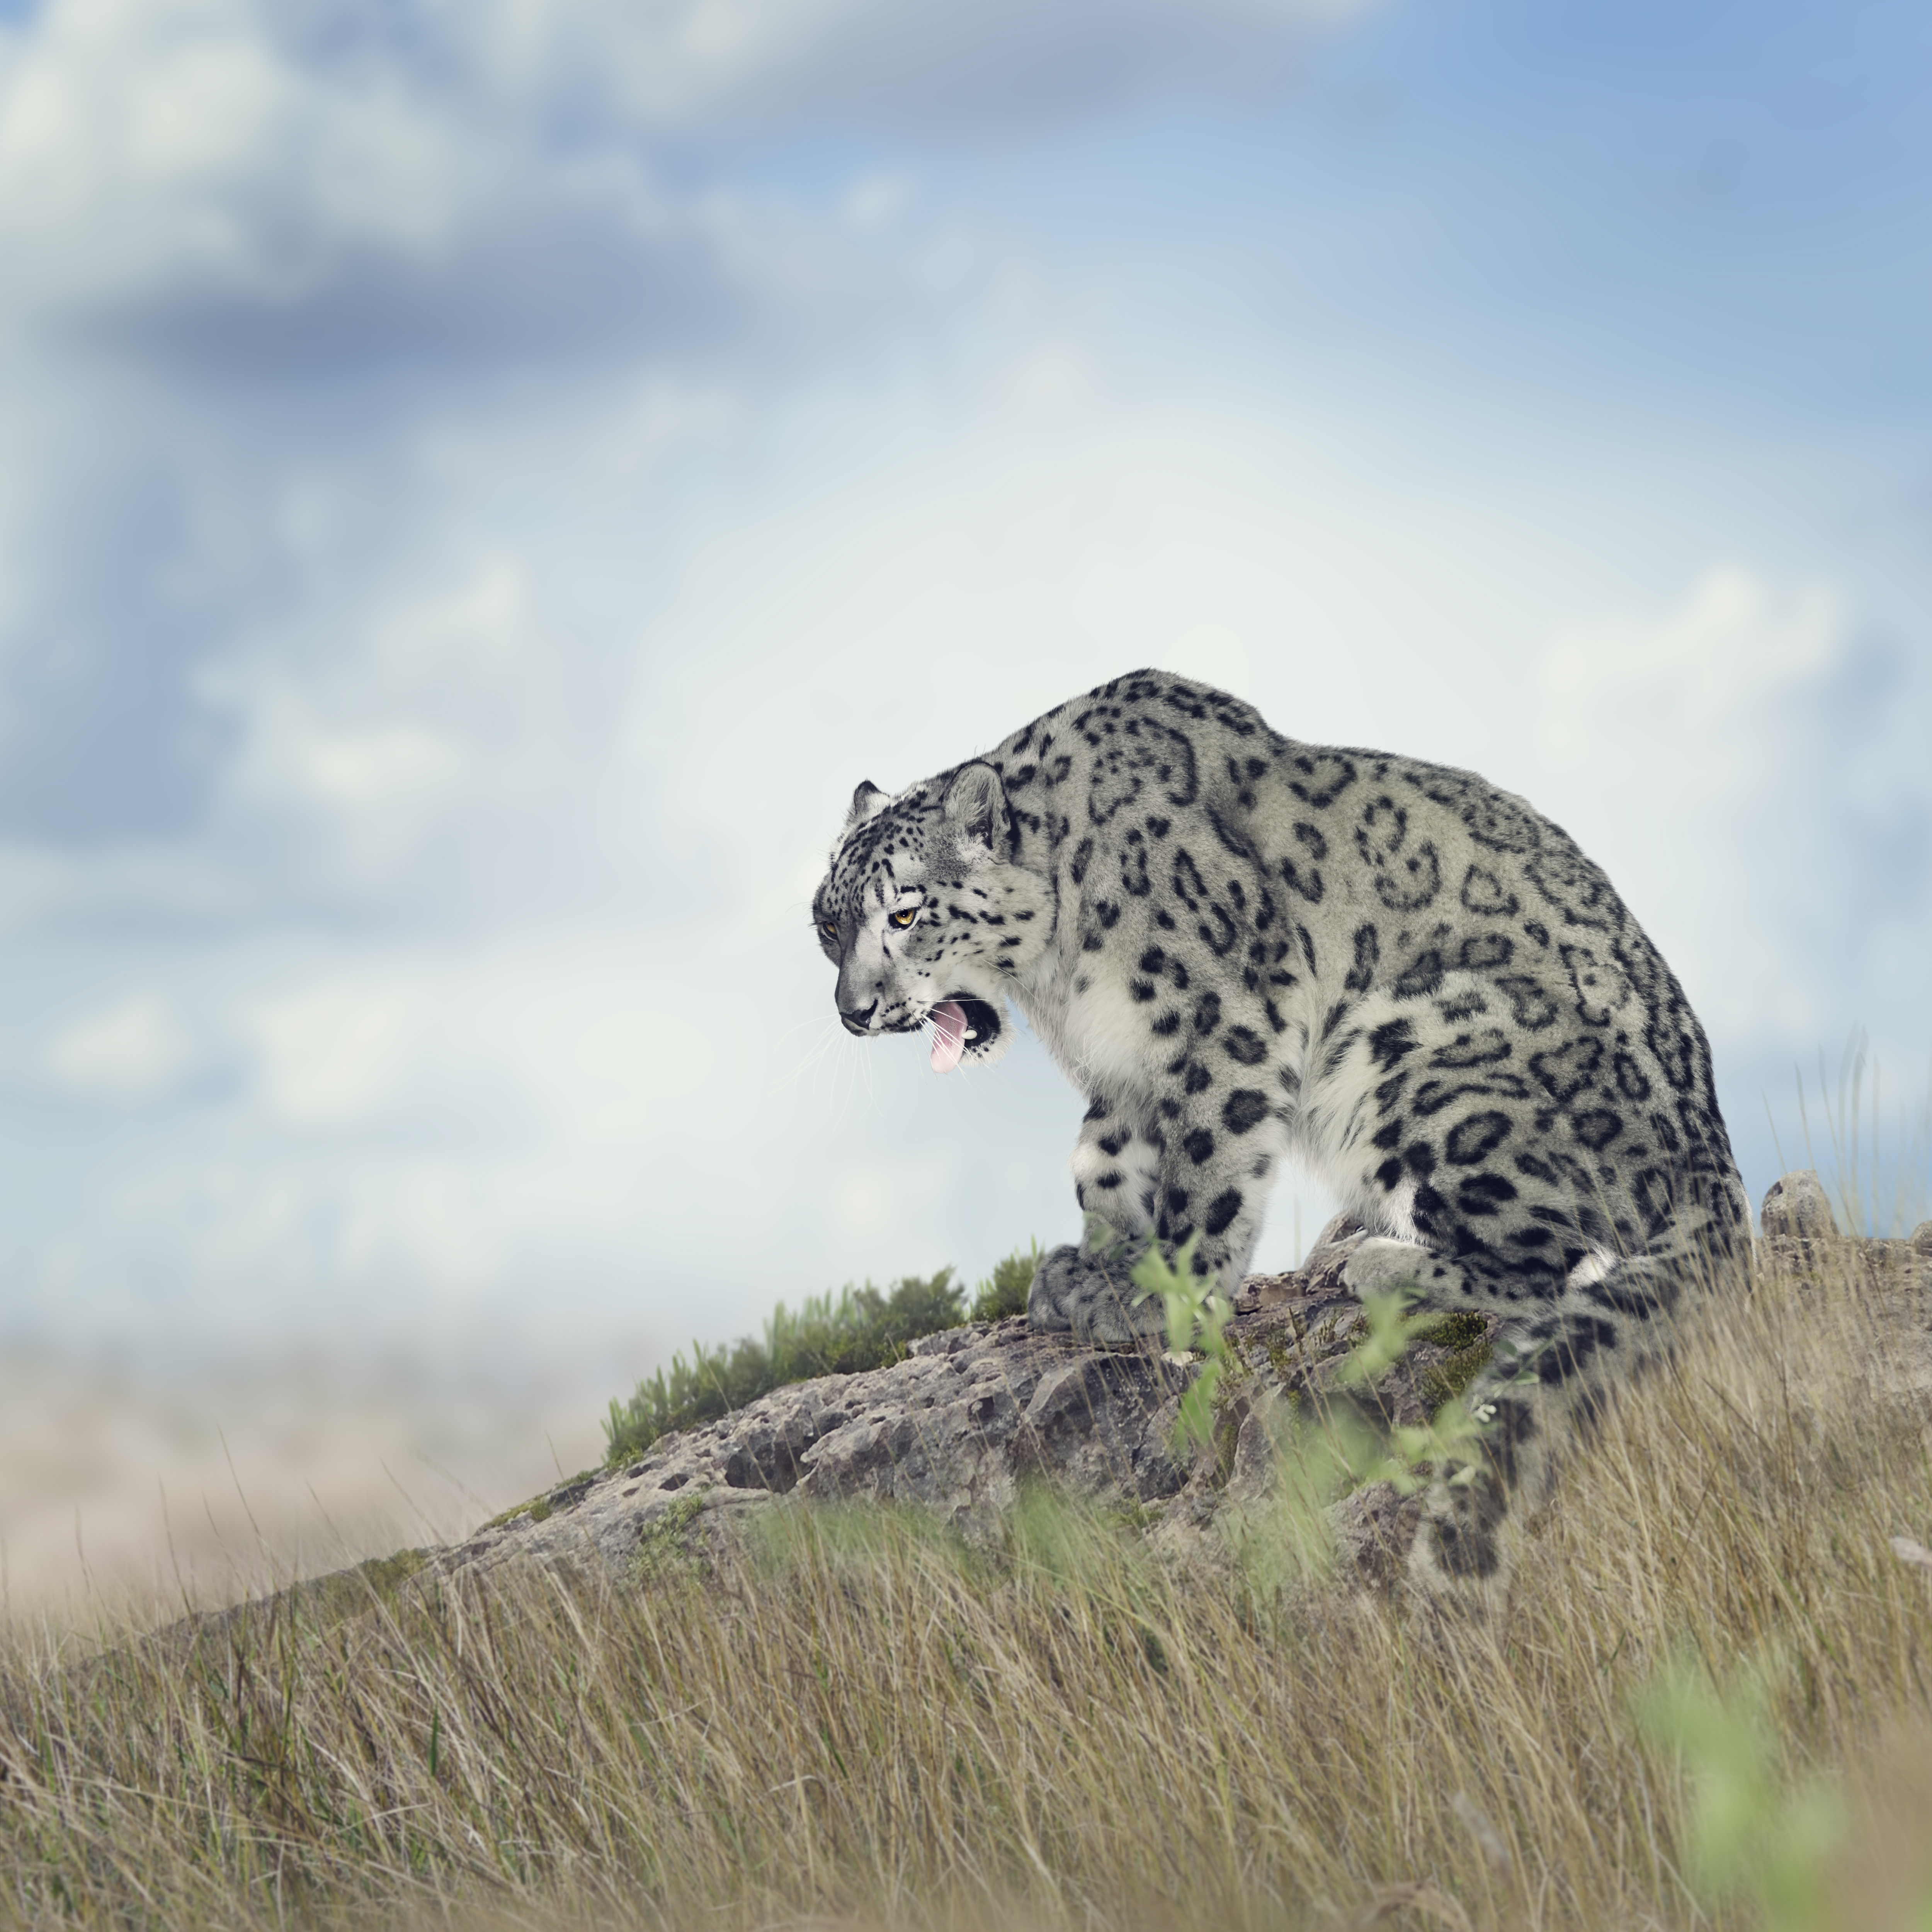tiger: (793, 644, 1762, 1546)
